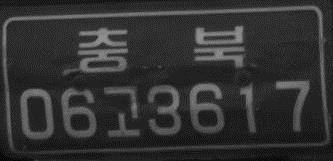0: (17, 85, 57, 141)
1: (236, 77, 261, 136)
3: (144, 81, 184, 139)
6: (58, 85, 100, 141), (186, 80, 227, 136)
7: (271, 77, 312, 134)
고: (100, 83, 142, 139)
충북_D: (75, 22, 247, 76)
